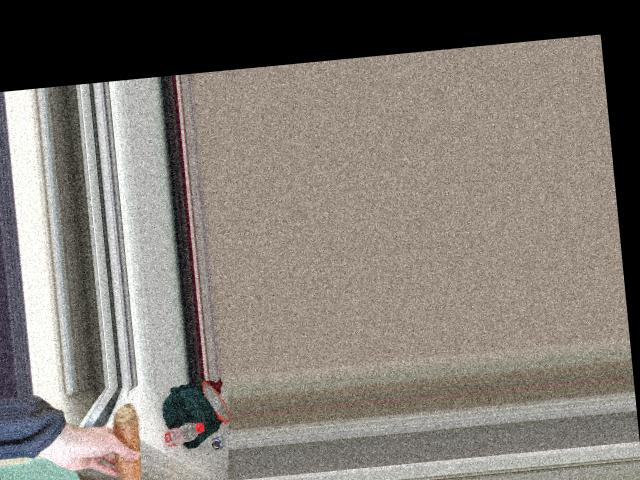sweet_potato: (111, 412, 144, 480)
